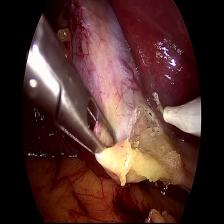Grasper: (25, 12, 119, 155)
Hook: (151, 90, 200, 138)
